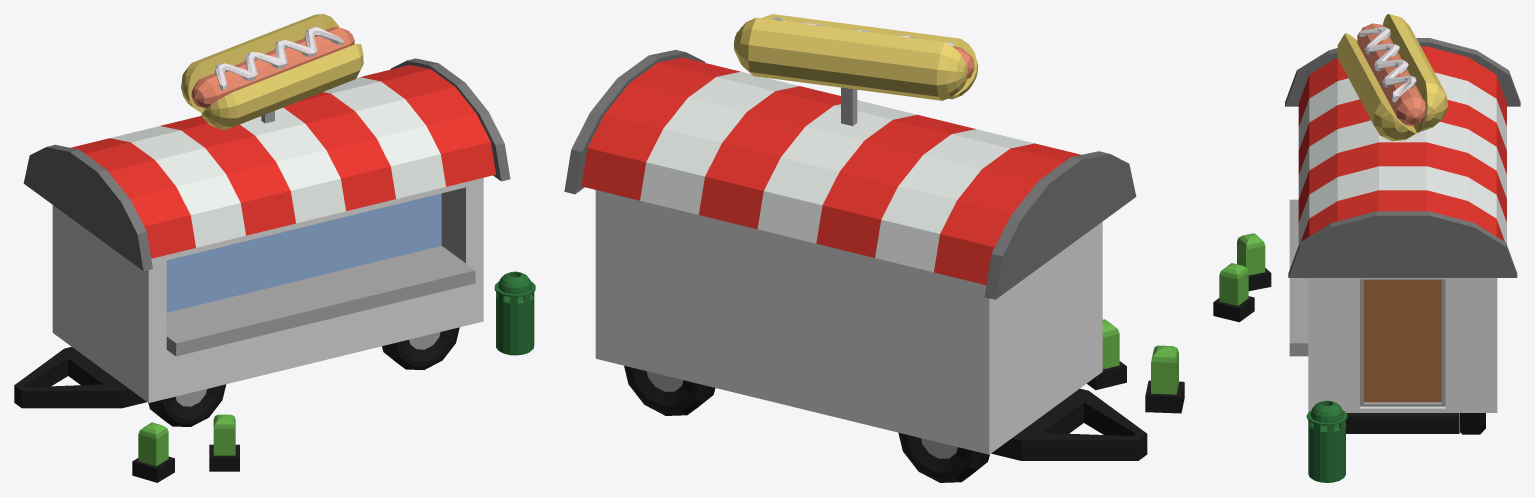
File: hotdog.fbx
3 renders of one model, left to right at view 1: azimuth 30°, elevation 25°; view 2: azimuth 150°, elevation 25°; view 3: azimuth 270°, elevation 25°, orthographic. The views are drawn at different scales.
Visible parts, largest first — view 1: hotdog; view 2: hotdog; view 3: hotdog.
Boxes of the visible parts, box(x1,y1,x2,y2) form: hotdog: box(14, 14, 535, 482); hotdog: box(564, 14, 1184, 482); hotdog: box(1213, 14, 1520, 482).
Size of the model in its own units: 572 by 380 by 325.
